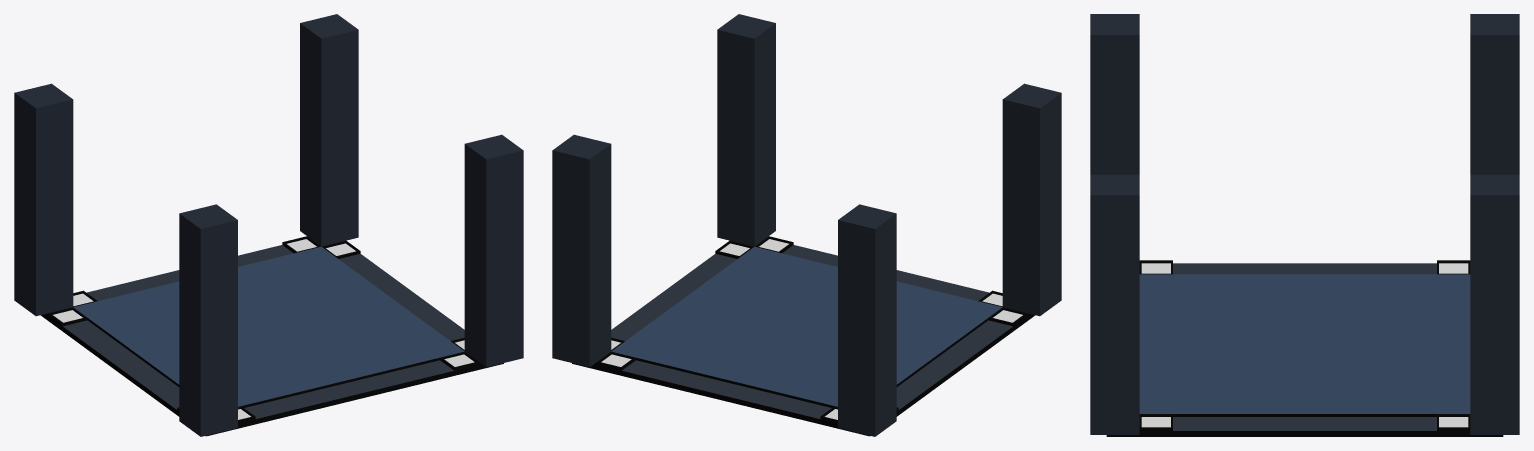
The model's file is HallwayIntersectionSection.fbx.
3 renders of one model, left to right at view 1: azimuth 30°, elevation 25°; view 2: azimuth 150°, elevation 25°; view 3: azimuth 270°, elevation 25°, orthographic. The views are drawn at different scales.
Visible parts, largest first — view 1: HallwayFloorIntersection, HallwaySupport.002, HallwaySupport.004, HallwaySupport, HallwaySupport.003; view 2: HallwayFloorIntersection, HallwaySupport, HallwaySupport.003, HallwaySupport.002, HallwaySupport.004; view 3: HallwayFloorIntersection, HallwaySupport.003, HallwaySupport.004, HallwaySupport, HallwaySupport.002.
Boxes of the visible parts, x1,y1,x2,y2 form: HallwayFloorIntersection: (40, 236, 503, 436); HallwaySupport.002: (14, 83, 73, 316); HallwaySupport.004: (464, 134, 523, 367); HallwaySupport: (179, 204, 237, 436); HallwaySupport.003: (300, 14, 358, 246); HallwayFloorIntersection: (572, 236, 1035, 436); HallwaySupport: (1002, 83, 1061, 316); HallwaySupport.003: (552, 134, 611, 367); HallwaySupport.002: (838, 204, 896, 436); HallwaySupport.004: (717, 14, 775, 246); HallwayFloorIntersection: (1106, 260, 1503, 436); HallwaySupport.003: (1470, 174, 1519, 434); HallwaySupport.004: (1090, 174, 1139, 434); HallwaySupport: (1090, 14, 1139, 174); HallwaySupport.002: (1470, 14, 1519, 174).
Size of the model in its own units: 650 by 415 by 650.
